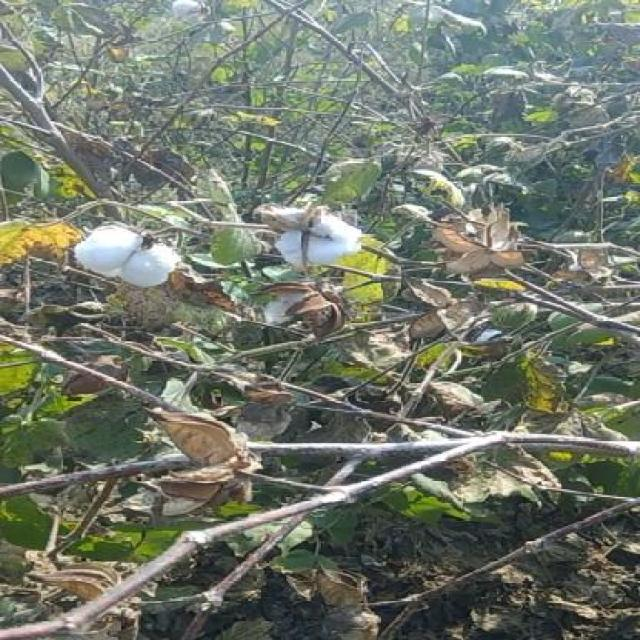cotton_ready: (247, 190, 407, 288), (67, 216, 182, 299)
